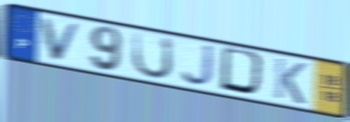9: (87, 25, 127, 73)
D: (218, 45, 270, 99)
J: (180, 43, 217, 89)
K: (272, 56, 308, 107)
U: (130, 30, 175, 80)
V: (39, 17, 85, 64)
